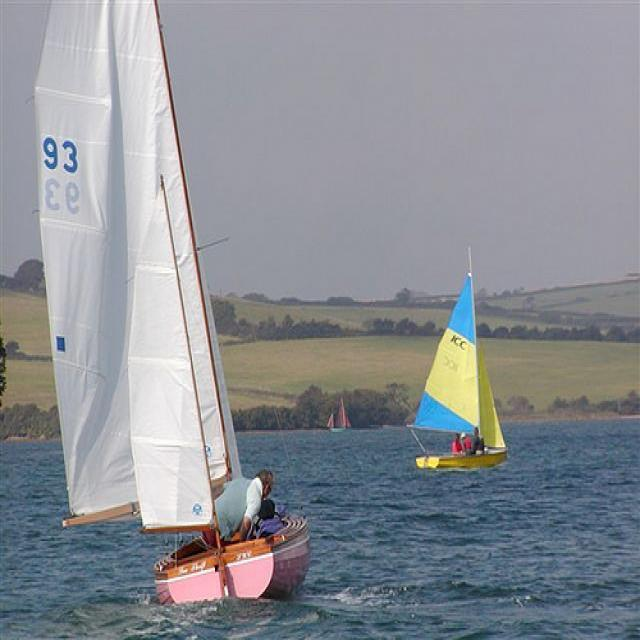Ship: (28, 1, 309, 611), (406, 257, 511, 477), (325, 390, 353, 441)
